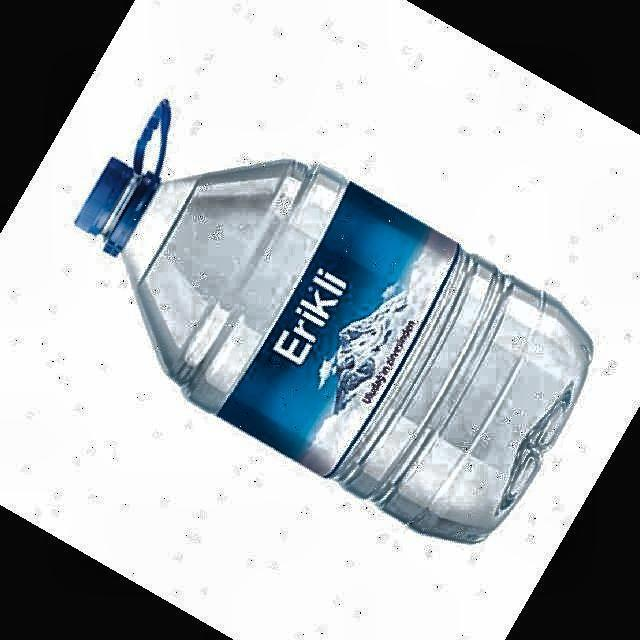plastic: (76, 101, 590, 542)
